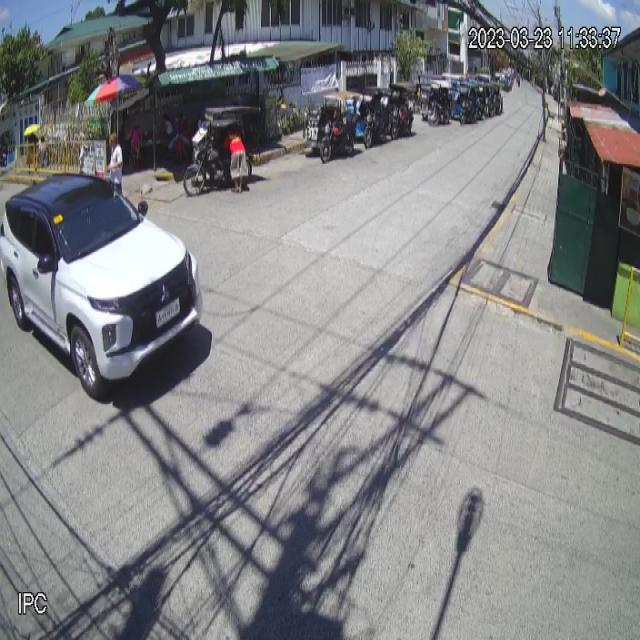Car: (0, 171, 203, 397)
